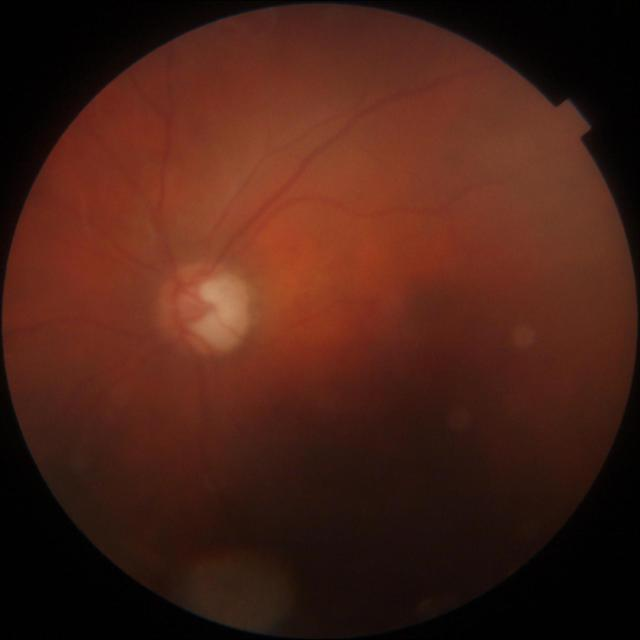OC: (191, 278, 244, 350)
OD: (160, 268, 249, 355)
